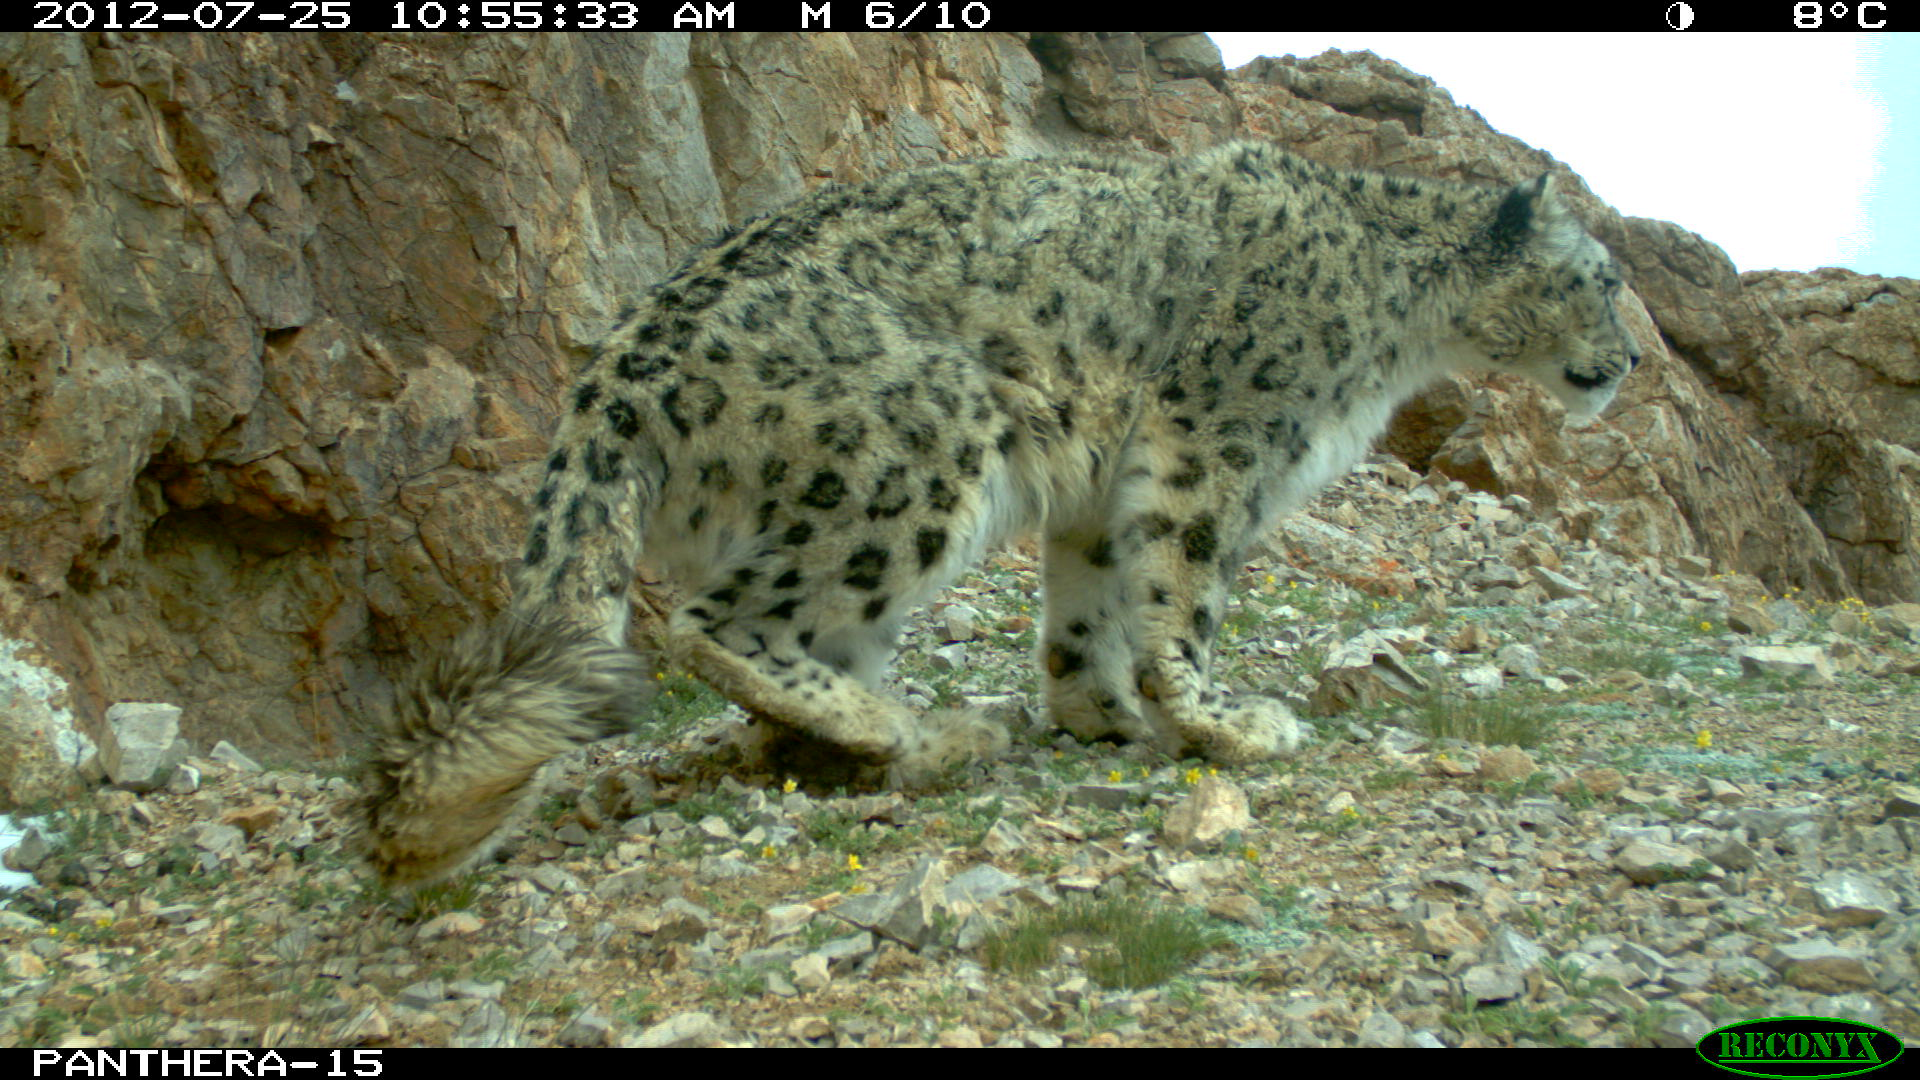Leopard: (306, 116, 1677, 910)
